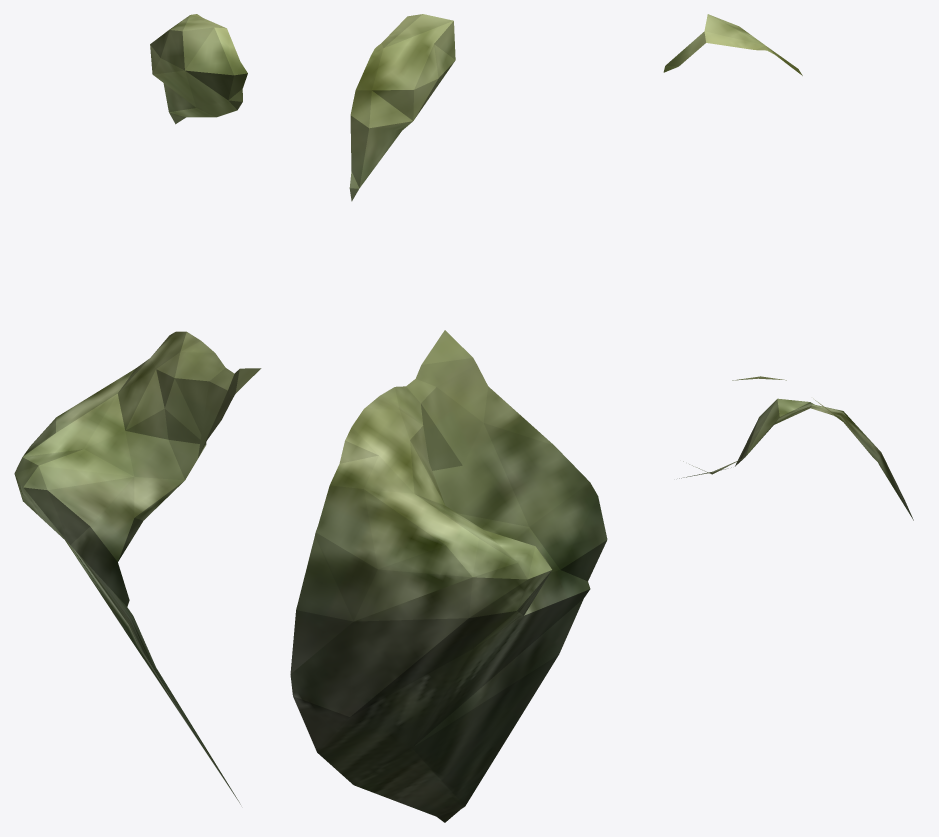
3 views of the same model, side by side, from view 1: azimuth 30°, elevation 25°; view 2: azimuth 150°, elevation 25°; view 3: azimuth 270°, elevation 25° (orthographic). The views are drawn at different scales.
Size of the model in its own units: 0.4557 by 2 by 0.6664.
1 material, 1 textured.
